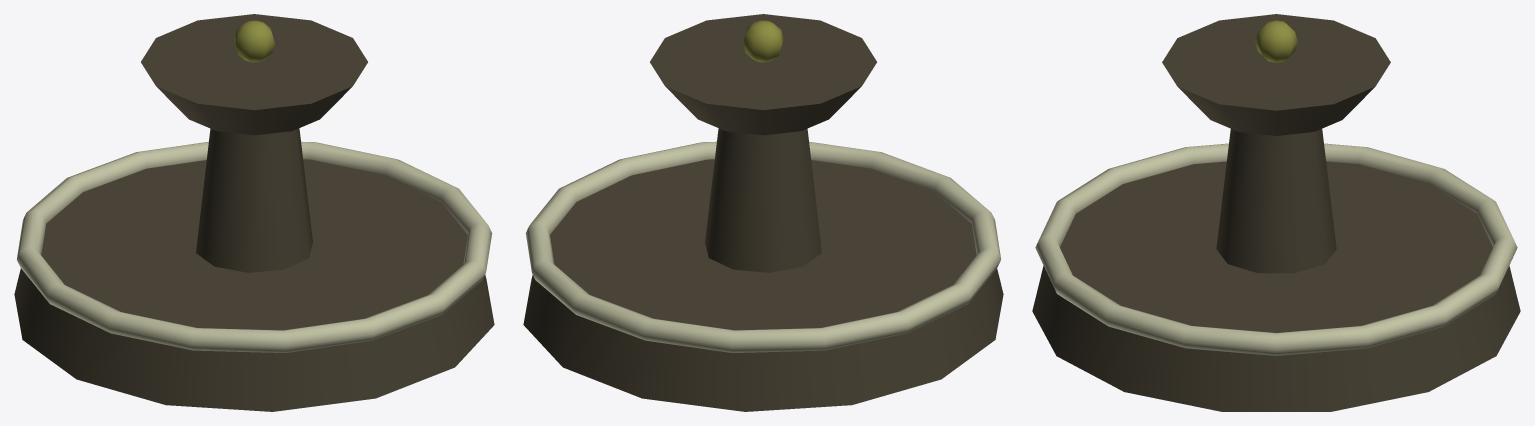
Rendered from village_fountain.glb.
The picture shows the model from 3 angles, left to right: view 1: azimuth 30°, elevation 25°; view 2: azimuth 150°, elevation 25°; view 3: azimuth 270°, elevation 25°; orthographic projection.
Parts seen in each view (by area): view 1: ft_basin, ft_rim, ft_bowl, ft_pedestal, ft_finial; view 2: ft_basin, ft_rim, ft_bowl, ft_pedestal, ft_finial; view 3: ft_basin, ft_rim, ft_bowl, ft_pedestal, ft_finial.
Boxes of the visible parts, left/top/right/bottom form: ft_basin: left=14, top=159, right=494, bottom=411; ft_rim: left=17, top=141, right=492, bottom=352; ft_bowl: left=141, top=14, right=367, bottom=135; ft_pedestal: left=196, top=128, right=312, bottom=272; ft_finial: left=234, top=20, right=274, bottom=62; ft_basin: left=523, top=159, right=1003, bottom=411; ft_rim: left=525, top=141, right=1000, bottom=352; ft_bowl: left=650, top=14, right=876, bottom=135; ft_pedestal: left=705, top=128, right=821, bottom=272; ft_finial: left=743, top=20, right=783, bottom=62; ft_basin: left=1032, top=161, right=1520, bottom=411; ft_rim: left=1035, top=143, right=1517, bottom=355; ft_bowl: left=1162, top=14, right=1390, bottom=135; ft_pedestal: left=1216, top=129, right=1336, bottom=273; ft_finial: left=1255, top=20, right=1297, bottom=62.
Bounding box in the file's own units: 3.16 × 2.09 × 3.2.
